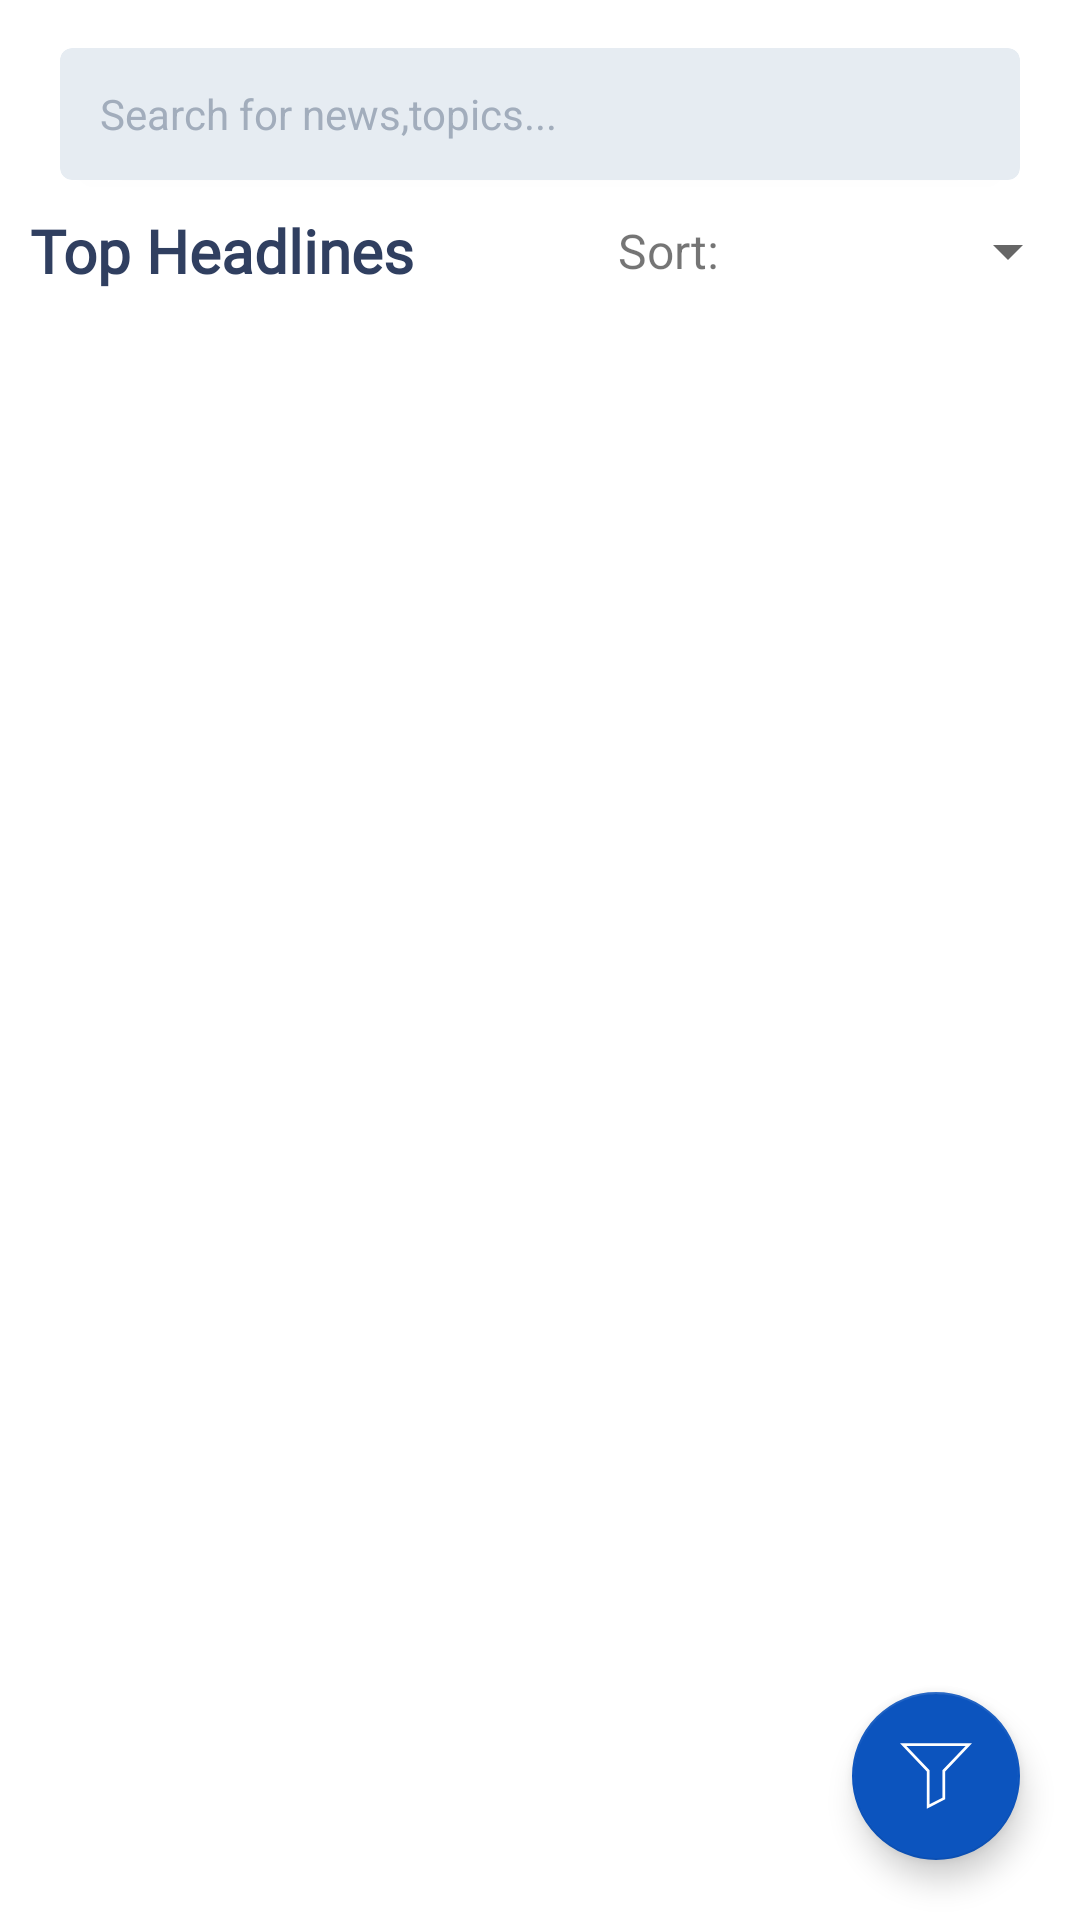

Where icons sit on this 1080x1920 app screen, as bbox=(x1, y1, x2, y2):
filter: bbox=(852, 1692, 1020, 1860)
